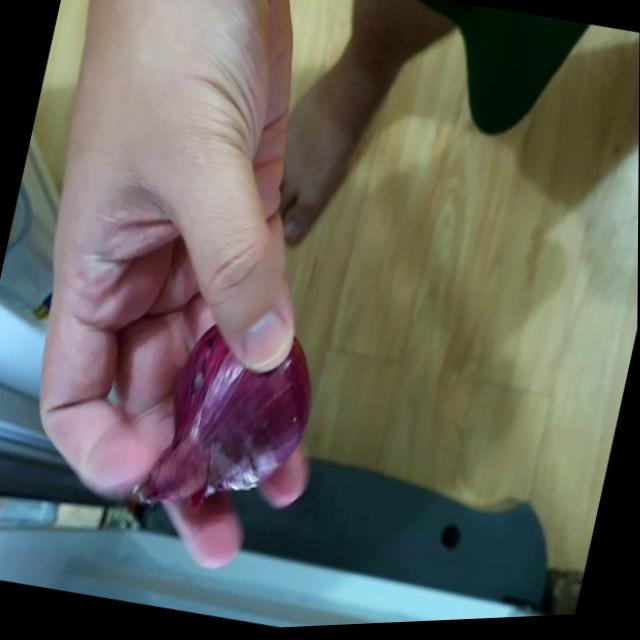onion: (130, 300, 332, 539)
